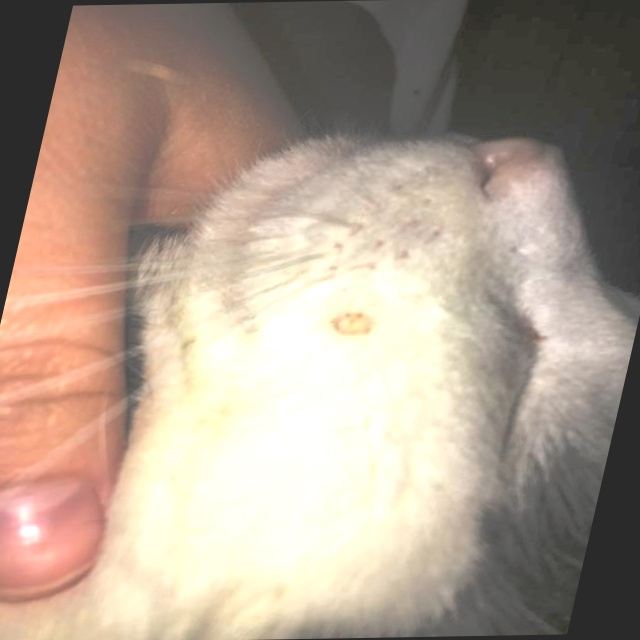lump_and_bump: (332, 314, 376, 337)
